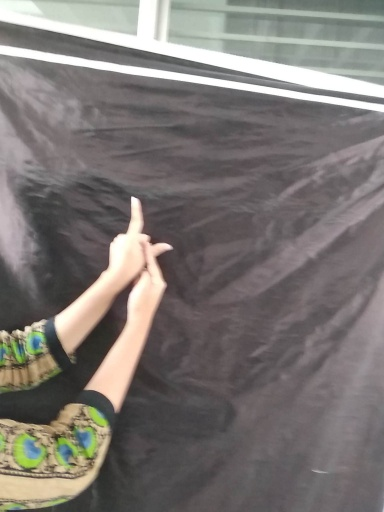dh: (103, 184, 182, 333)
